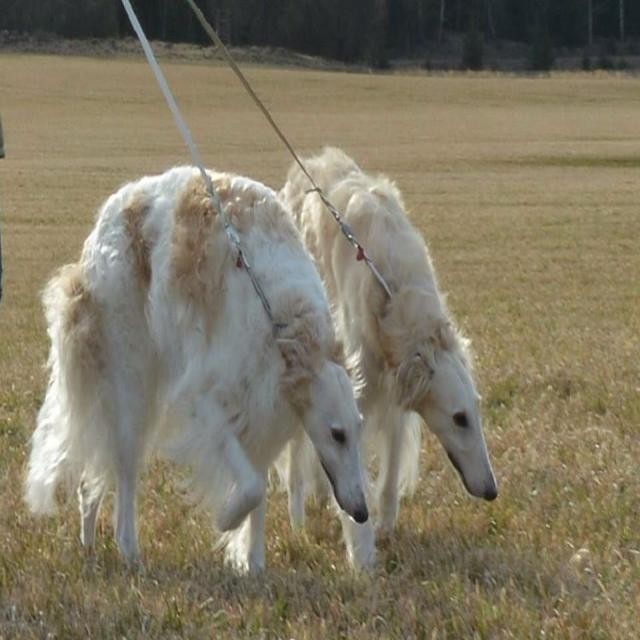Dogs: (22, 165, 370, 591), (246, 146, 504, 580)
